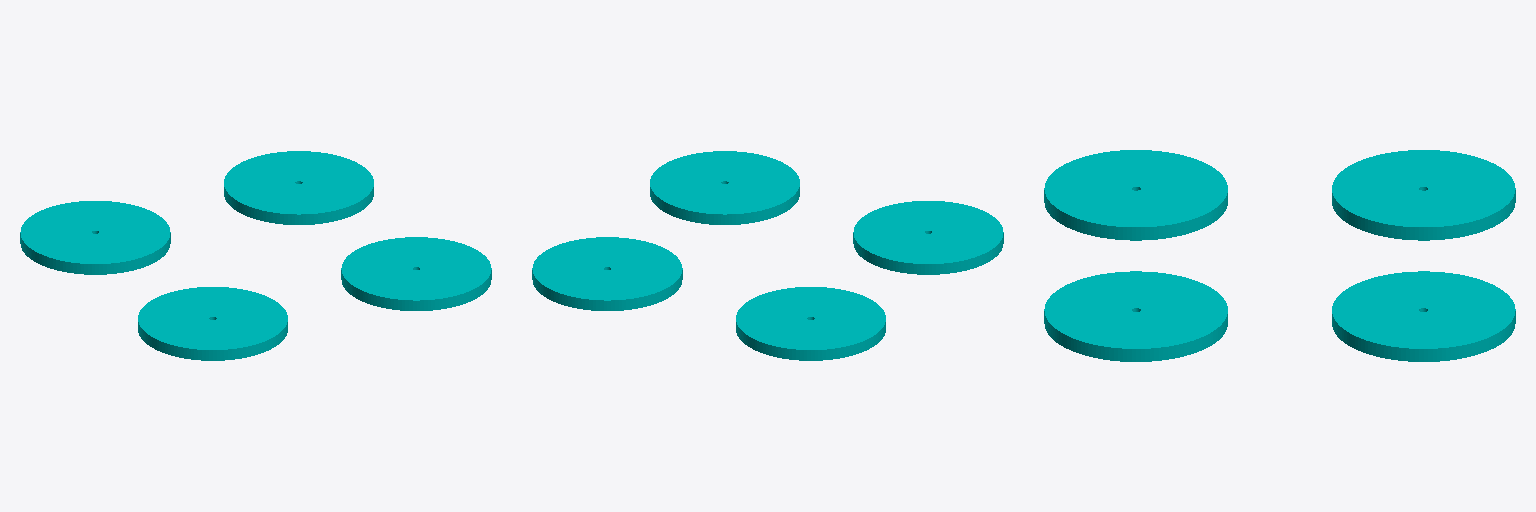
URDF robot description (Interceptor_V1):
<?xml version="1.0"?>
<robot name="Interceptor_V1">

  <link name="base_link">
    <inertial>
      <origin rpy="0 0 0" xyz="0 0 0"/>
      <mass value="0.45"/>
      <inertia ixx="0.00145623" ixy="0" ixz="0" iyy="0.00145623" iyz="0" izz="0.00271354"/>
    </inertial>
    <visual>
      <origin rpy="0 0 0" xyz="0 0 0"/>
      <geometry>
        <mesh filename="base.stl" scale="0.001 0.001 0.001"/> 
      </geometry>
      <material name="grey">
        <color rgba="0.2 0.2 0.2 1.0"/>
      </material>
    </visual>
    <collision>
      <origin rpy="0 0 0" xyz="0 0 0"/>
      <geometry>
        <mesh filename="base.stl" scale="0.001 0.001 0.001"/>
      </geometry>
    </collision>
  </link>


  <link name="prop_fl">
    <inertial>
      <origin rpy="0 0 0" xyz="0 0 0"/>
      <mass value="0.004"/>
      <inertia ixx="0.00000540" ixy="0" ixz="0" iyy="0.00000540" iyz="0" izz="0.00001076"/>
    </inertial>
    <visual>
      <origin rpy="0 0 0" xyz="0 0 0"/>
      <geometry>
        <mesh filename="prop.stl" scale="0.001 0.001 0.001"/>
      </geometry>
      <material name="cyan">
        <color rgba="0 0.8 0.8 1.0"/>
      </material>
    </visual>
    <collision>
      <origin rpy="0 0 0" xyz="0 0 0"/>
      <geometry>
        <cylinder length="0.01" radius="0.0635"/>
      </geometry>
    </collision>
  </link>

  <joint name="joint_prop_fl" type="continuous">
    <parent link="base_link"/>
    <child link="prop_fl"/>
    <origin rpy="0 0 0" xyz="0.07954951275000001 0.07954951275000001 0.03"/>
    <axis xyz="0 0 1"/>
  </joint>

  <link name="prop_fr">
    <inertial>
      <origin rpy="0 0 0" xyz="0 0 0"/>
      <mass value="0.004"/>
      <inertia ixx="0.00000540" ixy="0" ixz="0" iyy="0.00000540" iyz="0" izz="0.00001076"/>
    </inertial>
    <visual>
      <origin rpy="0 0 0" xyz="0 0 0"/>
      <geometry>
        <mesh filename="prop.stl" scale="0.001 0.001 0.001"/>
      </geometry>
      <material name="cyan">
        <color rgba="0 0.8 0.8 1.0"/>
      </material>
    </visual>
    <collision>
      <origin rpy="0 0 0" xyz="0 0 0"/>
      <geometry>
        <cylinder length="0.01" radius="0.0635"/>
      </geometry>
    </collision>
  </link>

  <joint name="joint_prop_fr" type="continuous">
    <parent link="base_link"/>
    <child link="prop_fr"/>
    <origin rpy="0 0 0" xyz="0.07954951275000001 -0.07954951275000001 0.03"/>
    <axis xyz="0 0 1"/>
  </joint>

  <link name="prop_rl">
    <inertial>
      <origin rpy="0 0 0" xyz="0 0 0"/>
      <mass value="0.004"/>
      <inertia ixx="0.00000540" ixy="0" ixz="0" iyy="0.00000540" iyz="0" izz="0.00001076"/>
    </inertial>
    <visual>
      <origin rpy="0 0 0" xyz="0 0 0"/>
      <geometry>
        <mesh filename="prop.stl" scale="0.001 0.001 0.001"/>
      </geometry>
      <material name="cyan">
        <color rgba="0 0.8 0.8 1.0"/>
      </material>
    </visual>
    <collision>
      <origin rpy="0 0 0" xyz="0 0 0"/>
      <geometry>
        <cylinder length="0.01" radius="0.0635"/>
      </geometry>
    </collision>
  </link>

  <joint name="joint_prop_rl" type="continuous">
    <parent link="base_link"/>
    <child link="prop_rl"/>
    <origin rpy="0 0 0" xyz="-0.07954951275000001 0.07954951275000001 0.03"/>
    <axis xyz="0 0 1"/>
  </joint>

  <link name="prop_rr">
    <inertial>
      <origin rpy="0 0 0" xyz="0 0 0"/>
      <mass value="0.004"/>
      <inertia ixx="0.00000540" ixy="0" ixz="0" iyy="0.00000540" iyz="0" izz="0.00001076"/>
    </inertial>
    <visual>
      <origin rpy="0 0 0" xyz="0 0 0"/>
      <geometry>
        <mesh filename="prop.stl" scale="0.001 0.001 0.001"/>
      </geometry>
      <material name="cyan">
        <color rgba="0 0.8 0.8 1.0"/>
      </material>
    </visual>
    <collision>
      <origin rpy="0 0 0" xyz="0 0 0"/>
      <geometry>
        <cylinder length="0.01" radius="0.0635"/>
      </geometry>
    </collision>
  </link>

  <joint name="joint_prop_rr" type="continuous">
    <parent link="base_link"/>
    <child link="prop_rr"/>
    <origin rpy="0 0 0" xyz="-0.07954951275000001 -0.07954951275000001 0.03"/>
    <axis xyz="0 0 1"/>
  </joint>
</robot>

--- Facts derived from the render (not from the file) ---
3 views of the same robot in one strip: view 1: azimuth 30°, elevation 25°; view 2: azimuth 150°, elevation 25°; view 3: azimuth 270°, elevation 25° (orthographic).
Model Interceptor_V1 with 5 links and 4 joints (4 continuous), rooted at base_link, posed all joints at 0.
Links seen in each view (by area): view 1: prop_fr, prop_rl, prop_fl, prop_rr; view 2: prop_fl, prop_rr, prop_fr, prop_rl; view 3: prop_fl, prop_fr, prop_rl, prop_rr.
Boxes of the visible links, x1,y1,x2,y2 form: prop_fr: (341, 237, 491, 310); prop_rl: (20, 201, 170, 274); prop_fl: (224, 151, 373, 224); prop_rr: (138, 287, 287, 360); prop_fl: (532, 237, 682, 310); prop_rr: (853, 201, 1003, 274); prop_fr: (650, 151, 799, 224); prop_rl: (736, 287, 885, 360); prop_fl: (1332, 271, 1515, 361); prop_fr: (1044, 271, 1227, 361); prop_rl: (1332, 150, 1515, 240); prop_rr: (1044, 150, 1227, 240).
Size in the robot's own frame: 0.2607 by 0.2607 by 0.008 metres.
4 mesh visuals loaded from 2 distinct referenced files (1 binary STL); not drawn: 1 (reference not matched to a file when rendering).